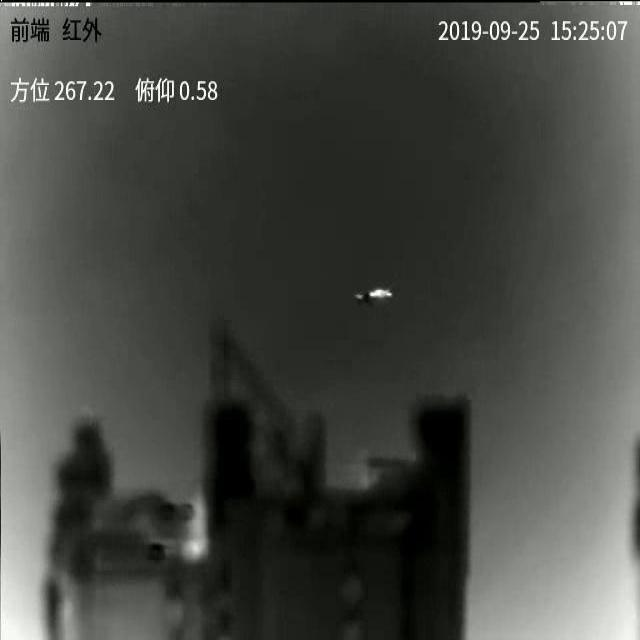drone: (353, 289, 393, 305)
